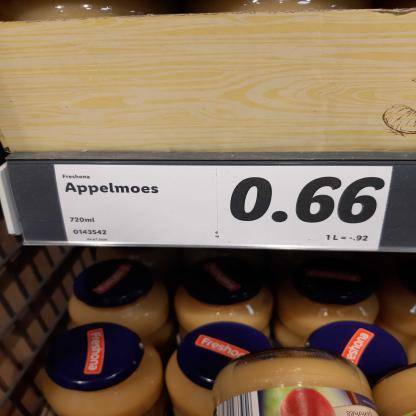prtg: (55, 165, 393, 252)
